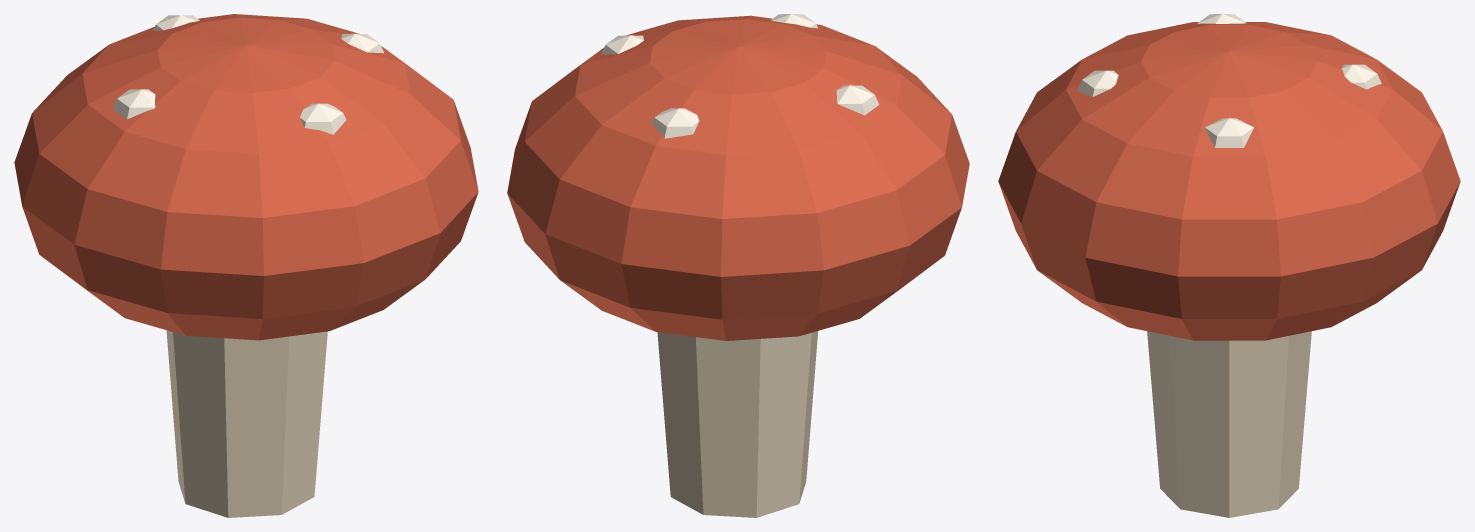
The model's file is mushroom.glb.
3 renders of one model, left to right at view 1: azimuth 30°, elevation 25°; view 2: azimuth 150°, elevation 25°; view 3: azimuth 270°, elevation 25°, orthographic.
Visible parts, largest first — view 1: mushroom; view 2: mushroom; view 3: mushroom.
Boxes of the visible parts, x1,y1,x2,y2 form: mushroom: [14, 14, 478, 517]; mushroom: [507, 14, 969, 517]; mushroom: [998, 14, 1460, 517].
Size of the model in its own units: 0.585 by 0.626 by 0.6.
